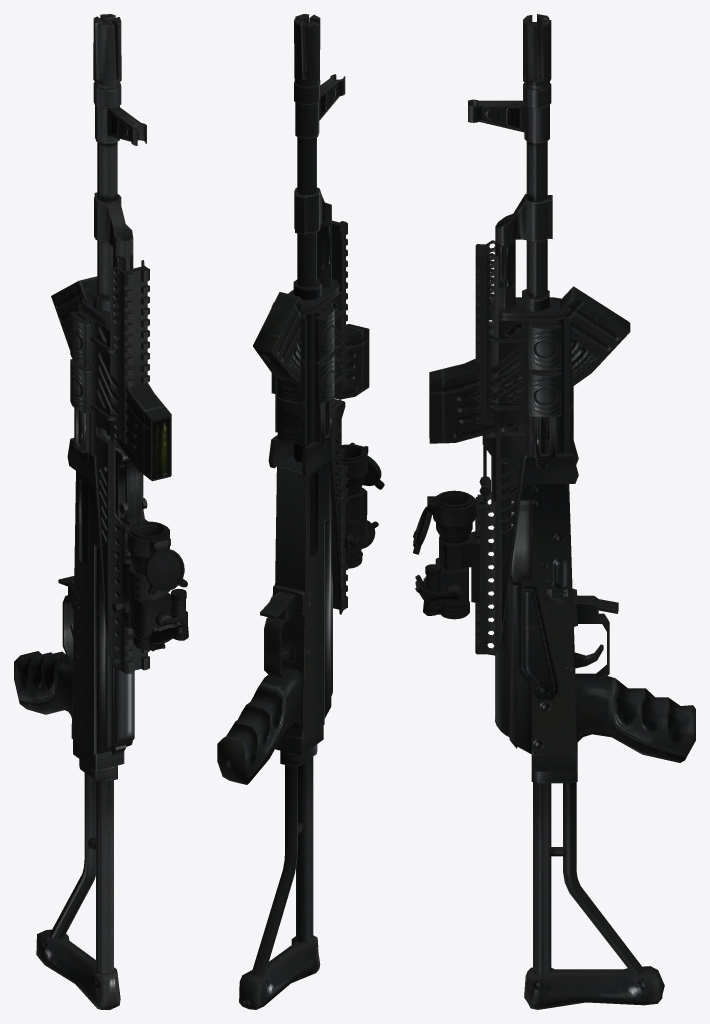
The model's file is AK-SOPMOD.obj.
The picture shows the model from 3 angles, left to right: view 1: azimuth 30°, elevation 25°; view 2: azimuth 150°, elevation 25°; view 3: azimuth 270°, elevation 25°; orthographic projection. The views are drawn at different scales.
Visible parts, largest first — view 1: Model_AK_SOPMOD, APoint_DotSight, Model_Magazine; view 2: Model_AK_SOPMOD, Model_Magazine, APoint_DotSight; view 3: Model_AK_SOPMOD, Model_Magazine, APoint_DotSight.
Part boxes in pixels (left/top/right/bottom): Model_AK_SOPMOD: left=14, top=14, right=149, bottom=1009; APoint_DotSight: left=112, top=521, right=188, bottom=651; Model_Magazine: left=51, top=276, right=171, bottom=481; Model_AK_SOPMOD: left=217, top=14, right=347, bottom=1009; Model_Magazine: left=253, top=292, right=369, bottom=399; APoint_DotSight: left=341, top=442, right=384, bottom=568; Model_AK_SOPMOD: left=468, top=14, right=695, bottom=1009; Model_Magazine: left=429, top=286, right=630, bottom=443; APoint_DotSight: left=413, top=490, right=479, bottom=619.
Bounding box in the file's own units: 0.0561 × 0.9454 × 0.2454.
Materials: 2 (2 with a texture image).
